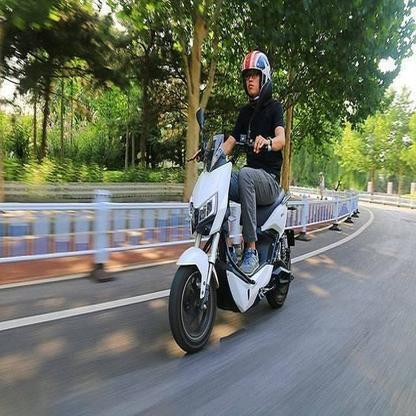target: (165, 48, 300, 354)
